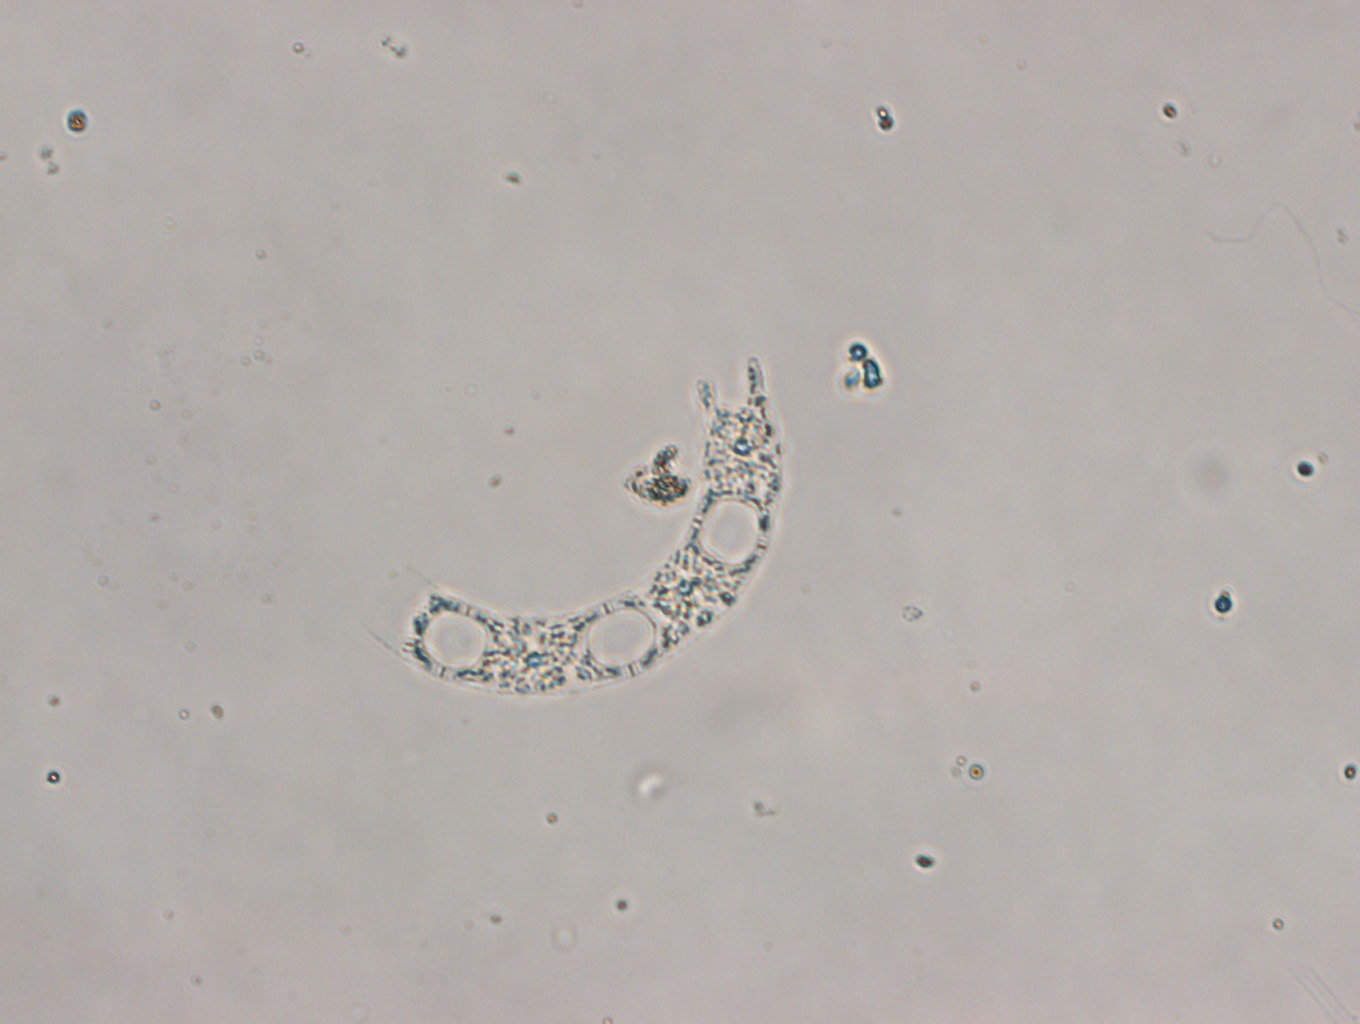eucampia: (361, 360, 787, 697)
